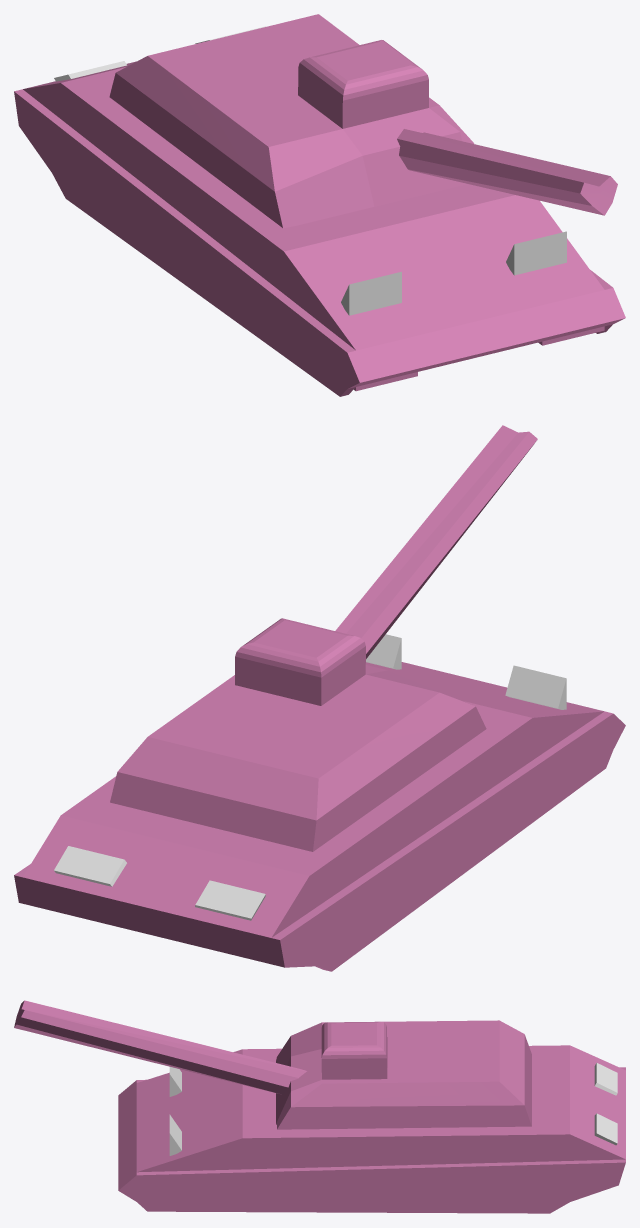
Rendered from TankV2.fbx.
3 renders of one model, top to bottom at view 1: azimuth 30°, elevation 25°; view 2: azimuth 150°, elevation 25°; view 3: azimuth 270°, elevation 25°, orthographic. The views are drawn at different scales.
Visible parts, largest first — view 1: Cube.010, Cube.009, Cylinder.011, Cube.007; view 2: Cube.010, Cube.009, Cylinder.011, Cube.008, Cube.007; view 3: Cube.010, Cube.009, Cylinder.011, Cube.008, Cube.007.
Part boxes in pixels (x1,y1,x2,y2): Cube.010: (14, 61, 625, 396); Cube.009: (109, 14, 474, 228); Cylinder.011: (397, 129, 617, 215); Cube.007: (341, 231, 566, 315); Cube.010: (14, 662, 625, 971); Cube.009: (110, 618, 486, 851); Cylinder.011: (335, 425, 537, 658); Cube.008: (54, 846, 265, 920); Cube.007: (366, 634, 566, 709); Cube.010: (118, 1045, 625, 1213); Cube.009: (276, 1020, 531, 1129); Cylinder.011: (14, 1000, 306, 1094); Cube.008: (594, 1062, 617, 1145); Cube.007: (169, 1067, 181, 1155).
Size of the model in its own units: 214 by 184 by 581.
